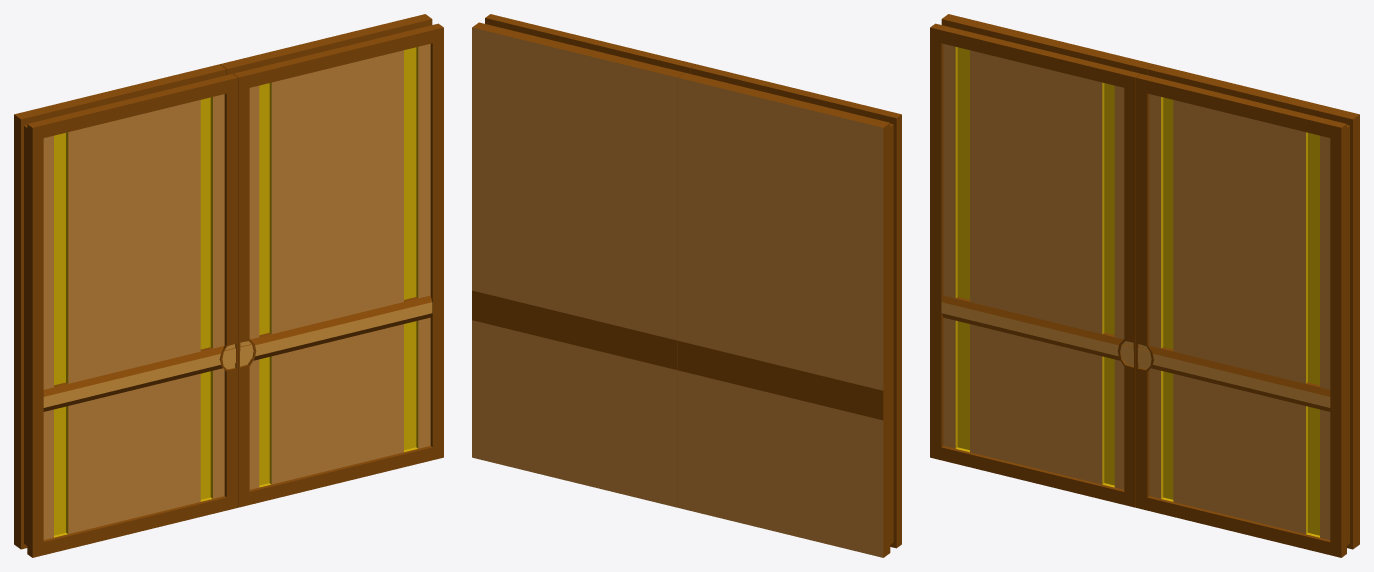
File: ExitDoor.fbx
3 views of the same model, side by side, from view 1: azimuth 30°, elevation 25°; view 2: azimuth 150°, elevation 25°; view 3: azimuth 330°, elevation 25° (orthographic).
Parts seen in each view (by area): view 1: Door L, Door R; view 2: Door L, Door R; view 3: Door R, Door L.
Part boxes in pixels (x1,y1,x2,y2): Door L: (14, 64, 237, 557); Door R: (220, 14, 443, 507); Door L: (678, 64, 901, 557); Door R: (472, 14, 695, 507); Door R: (1136, 64, 1359, 557); Door L: (930, 14, 1153, 507).
Size of the model in its own units: 1802 by 1800 by 140.
